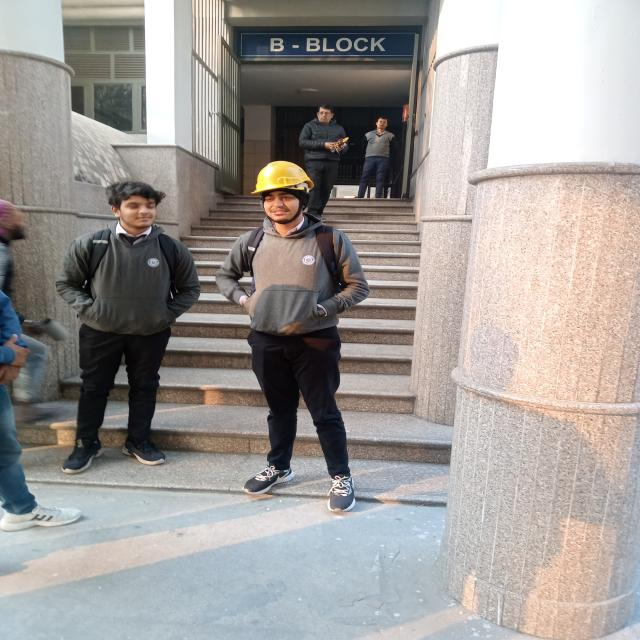no jacket: (211, 161, 368, 514)
unsafe: (59, 178, 204, 474), (301, 100, 350, 218), (358, 116, 396, 200)
